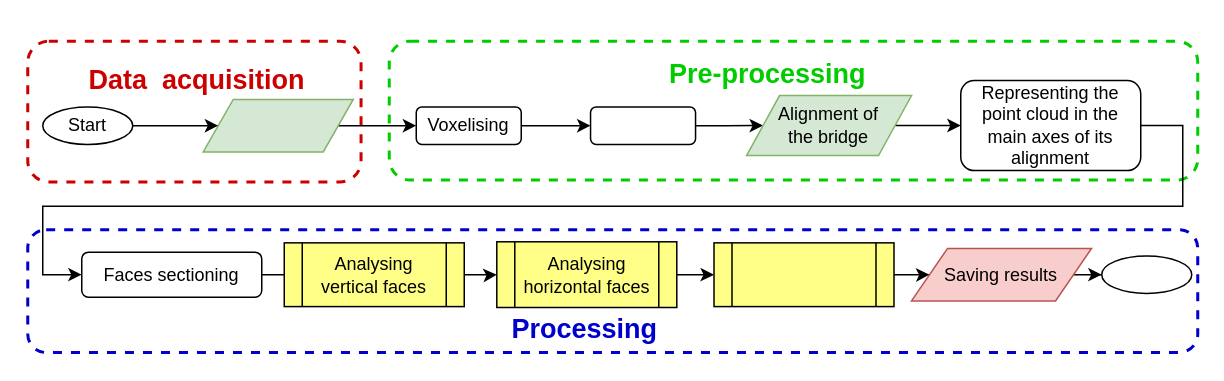
The diagram is 1224 pixels wide and 381 high, and some of its shapes have lost their labels. Each missing label, with the box of its shape:
Analysing interior faces: (712, 241, 894, 307)
Denoising: (589, 105, 696, 144)
End: (1100, 254, 1192, 293)
Point cloud: (202, 98, 353, 152)
